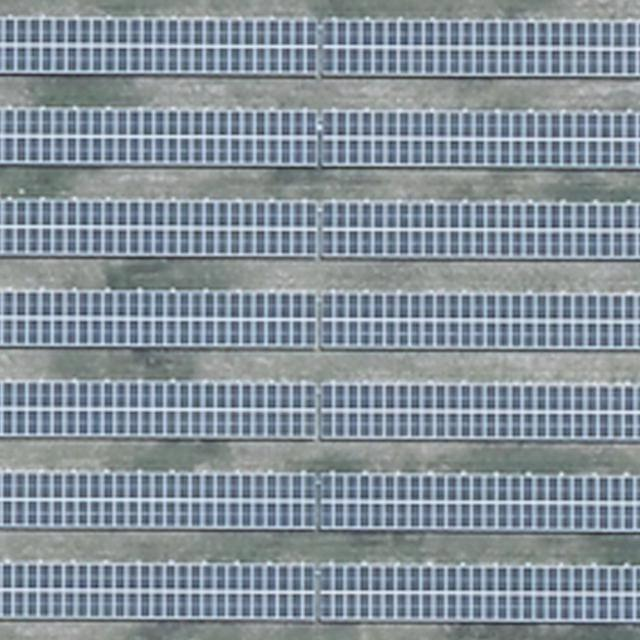solar: (318, 288, 640, 356), (1, 288, 323, 354), (319, 469, 640, 535), (1, 104, 320, 170), (1, 558, 318, 624), (319, 197, 640, 262), (1, 378, 322, 443), (319, 380, 640, 445), (316, 560, 640, 624), (319, 16, 640, 80), (1, 468, 321, 532), (321, 108, 640, 172), (1, 15, 321, 77), (1, 196, 319, 258)
